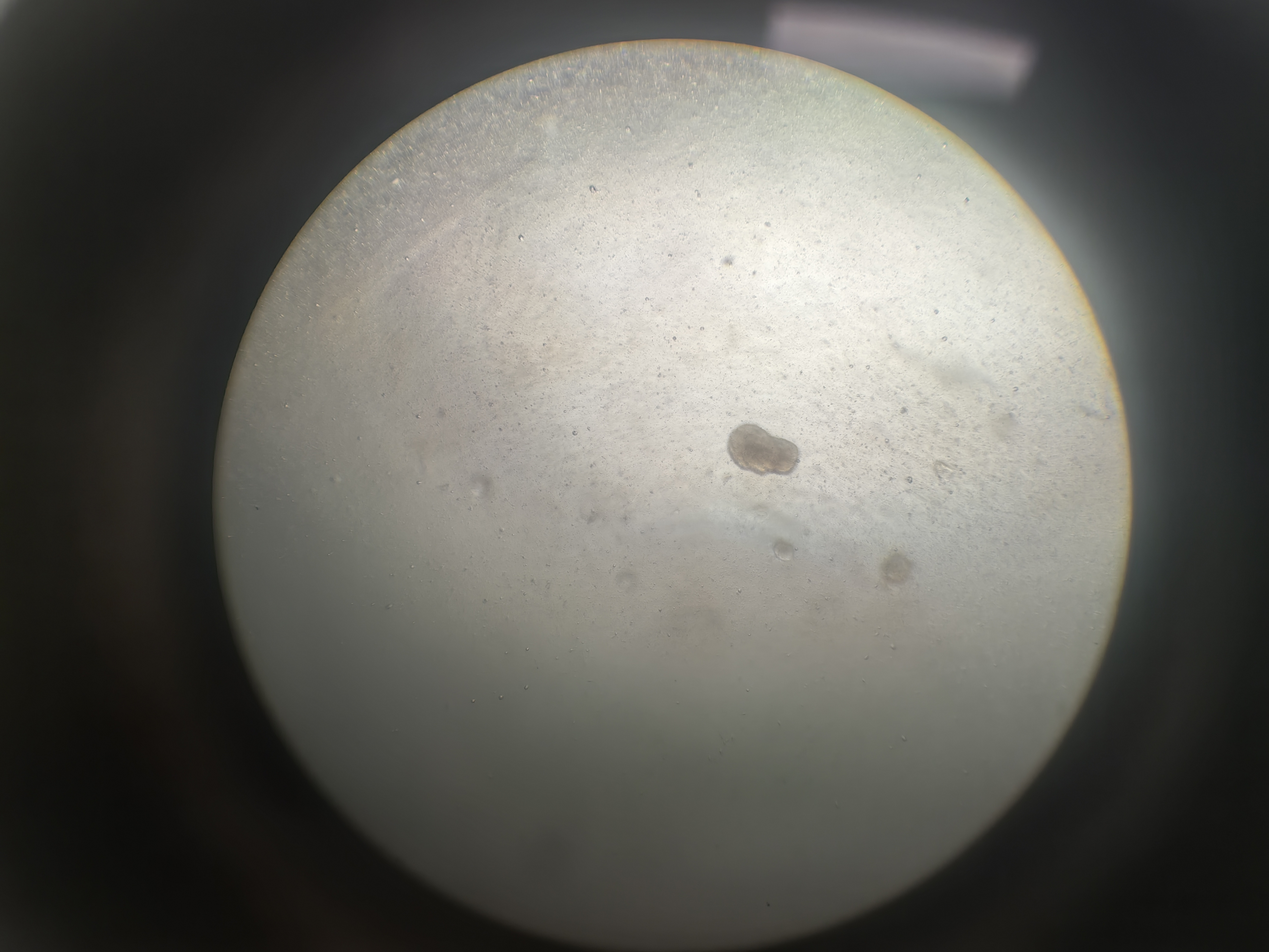organoid: (870, 556, 937, 616)
